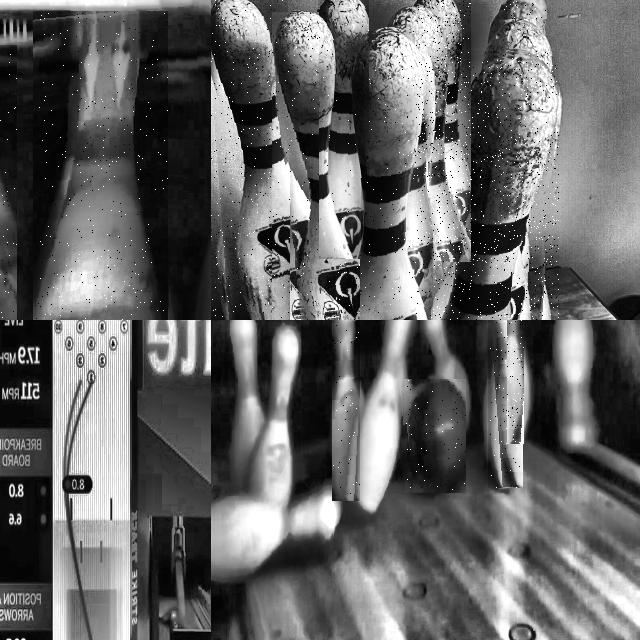bowling-ball: (406, 379, 465, 491)
bowling-pins: (35, 11, 163, 320), (446, 51, 559, 320), (336, 31, 430, 320), (272, 13, 359, 320), (211, 0, 287, 320), (389, 6, 459, 318), (417, 0, 471, 255), (319, 0, 368, 259), (492, 320, 522, 488), (333, 320, 359, 501), (483, 19, 553, 70), (446, 219, 471, 320), (507, 320, 523, 443), (529, 231, 551, 320), (490, 2, 545, 37), (504, 0, 546, 19)
